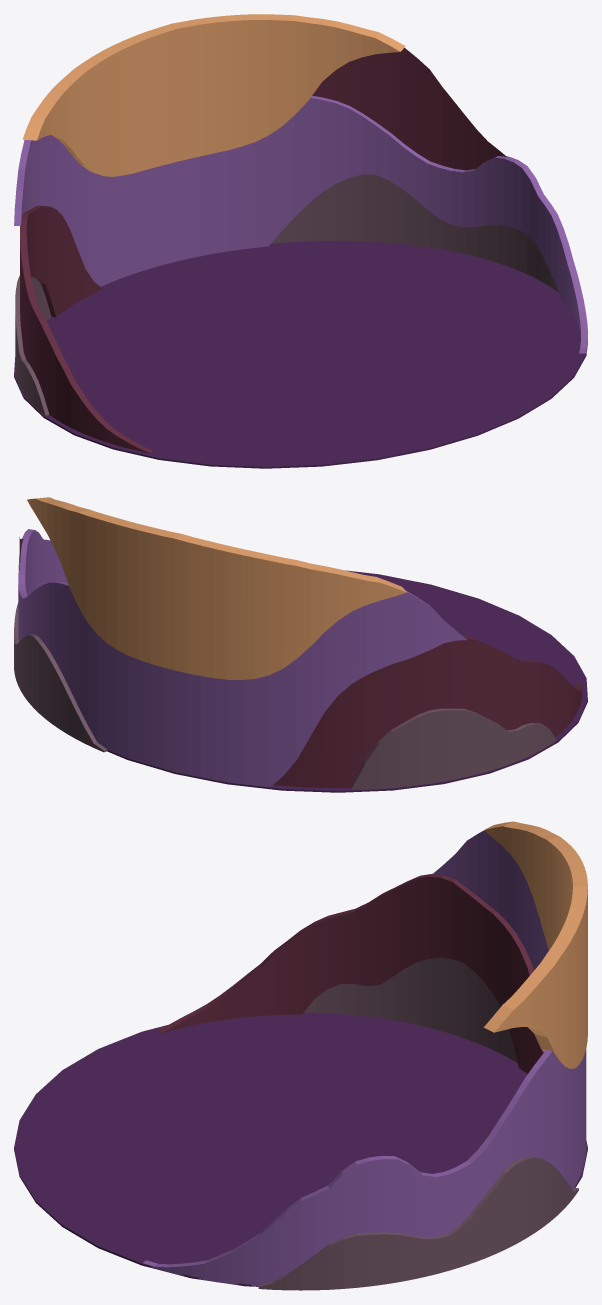
The model's file is MogulMoney3.fbx.
The picture shows the model from 3 angles, top to bottom: view 1: azimuth 30°, elevation 25°; view 2: azimuth 150°, elevation 25°; view 3: azimuth 270°, elevation 25°; orthographic projection. The views are drawn at different scales.
Parts seen in each view (by area): view 1: Floor.001, Circle.003, Circle.006, Circle.007, Circle.004, Circle.002, Circle.009; view 2: Circle.003, Circle.006, Circle.004, Circle.009, Floor.001, Circle.007; view 3: Floor.001, Circle.003, Circle.004, Circle.007, Circle.006, Circle.009.
Part boxes in pixels (x1,y1,x2,y2): Floor.001: (14,241,586,468); Circle.003: (14,95,587,353); Circle.006: (22,14,405,176); Circle.007: (271,174,558,292); Circle.004: (20,205,152,453); Circle.002: (312,48,506,170); Circle.009: (15,276,51,415); Circle.003: (18,529,466,787); Circle.006: (27,497,406,679); Circle.004: (273,636,581,787); Circle.009: (351,708,556,789); Floor.001: (107,570,587,792); Circle.007: (14,602,107,752); Floor.001: (14,1012,587,1286); Circle.003: (142,830,586,1286); Circle.004: (158,874,543,1073); Circle.007: (258,1156,578,1290); Circle.006: (484,821,587,1068); Circle.009: (304,957,517,1062).
Size of the model in its own units: 1550 by 679 by 1340.
